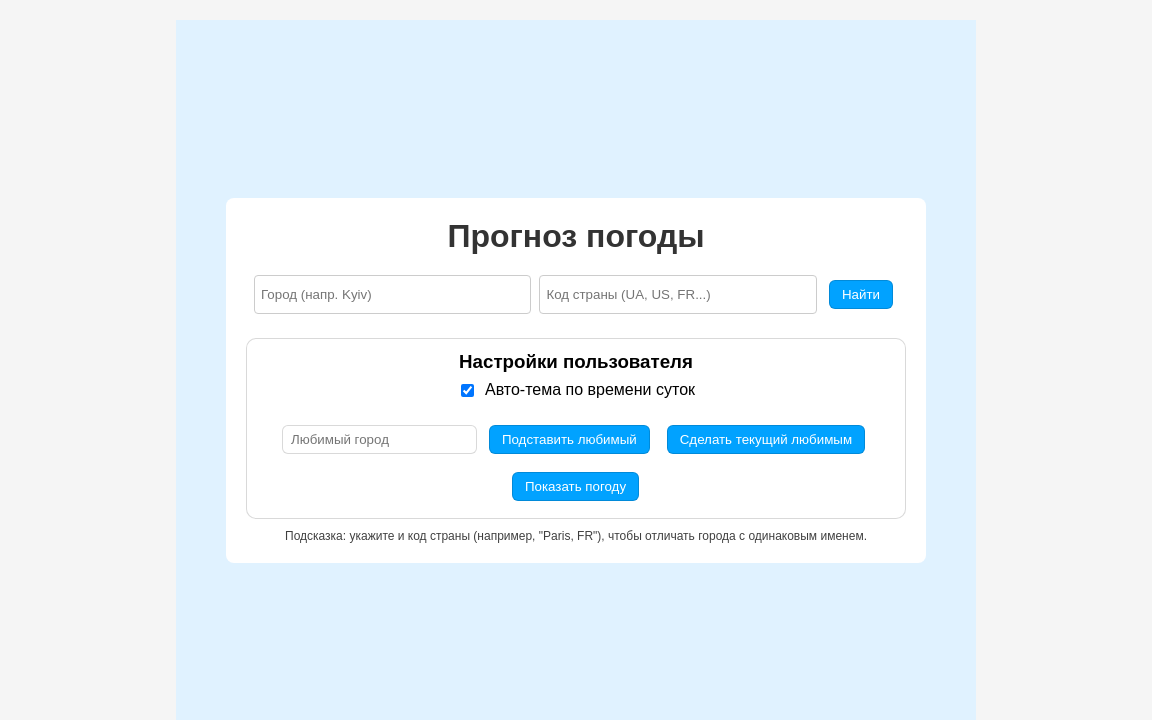
Test: WeatherApp component › відображає погоду після успішного запиту
Type "Kyiv" into the field with placeholder "Город (напр. Kyiv)". click: (393, 294)
box: [254, 274, 532, 314]
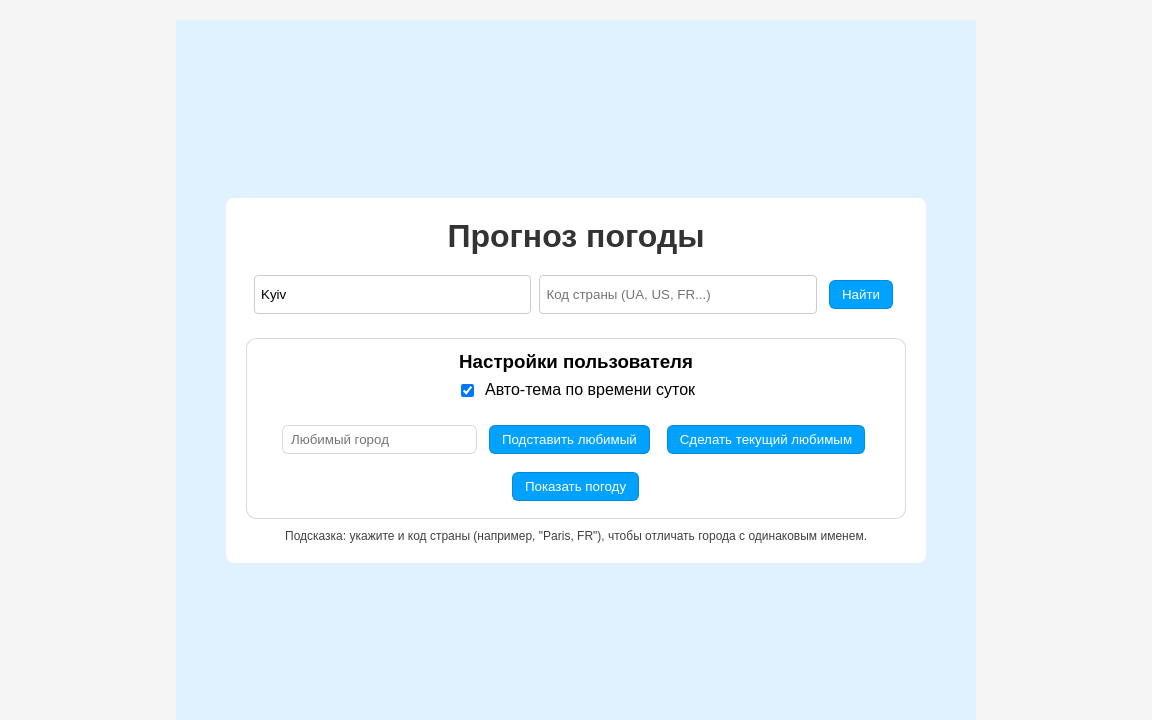
Click the button "Найти". click: (861, 294)
box: [829, 280, 893, 308]
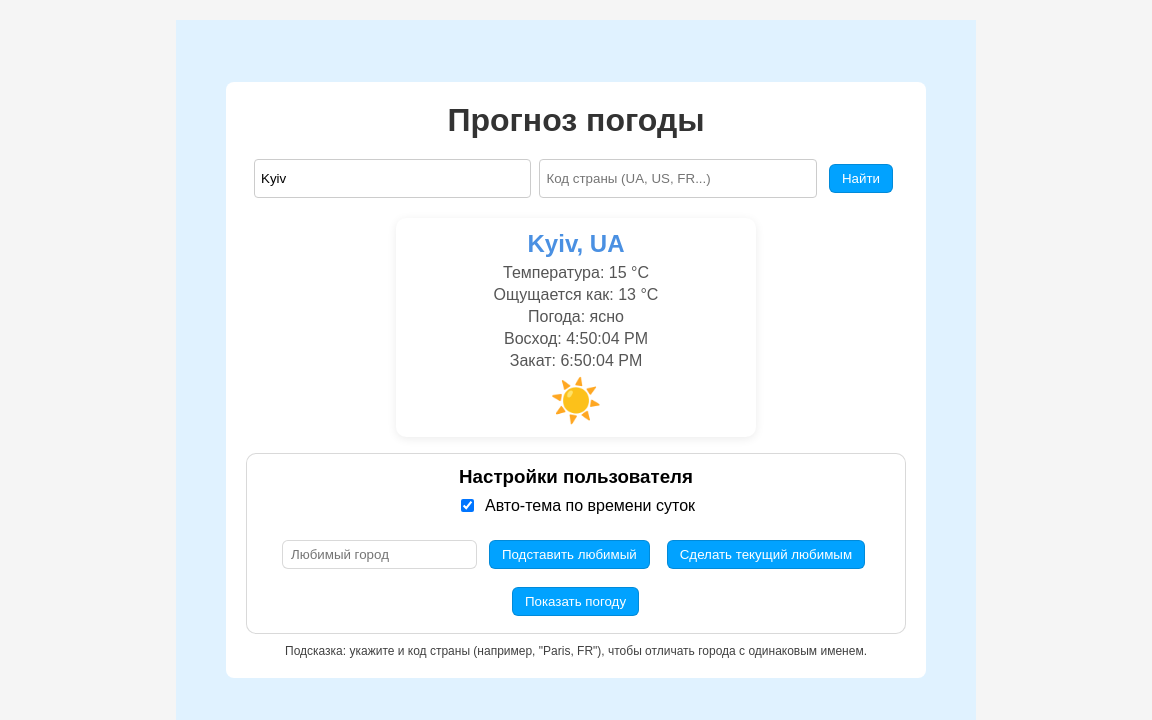
Now the heading "Kyiv, UA" is shown, box [528, 230, 624, 257]
Now the text "Температура: 15 °C" is shown, box [503, 264, 649, 281]
Now the text "Погода: ясно" is shown, box [528, 308, 624, 325]
